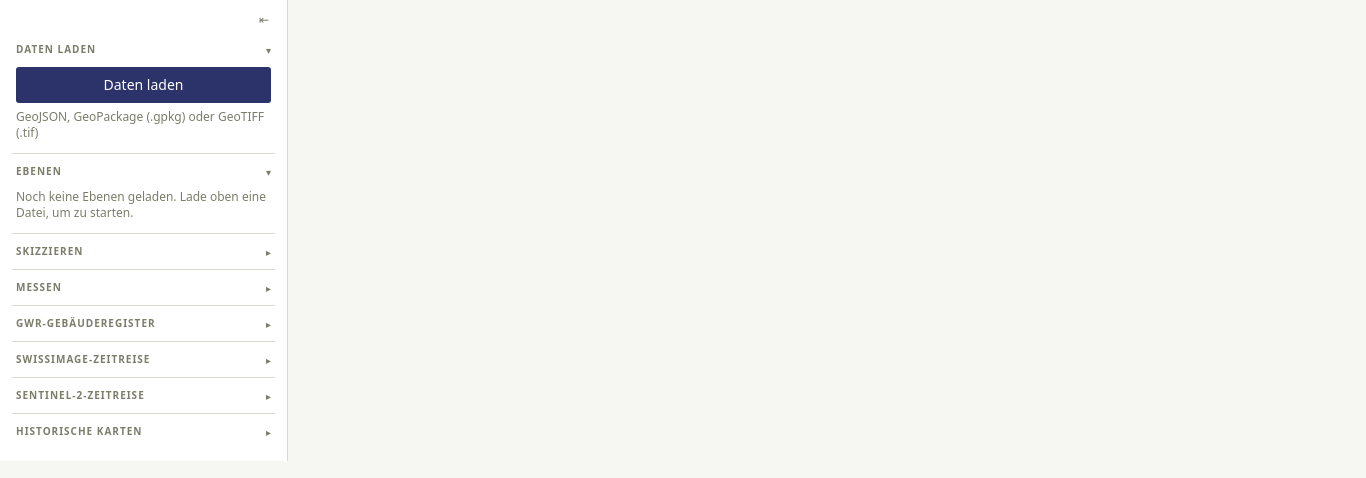
Test: SidebarPanels (rail mode) › switches to the icon rail and opens exactly one panel
Click the button named "Kompakte Seitenleiste" at (264, 20), box x1=253 y1=12 x2=275 y2=28
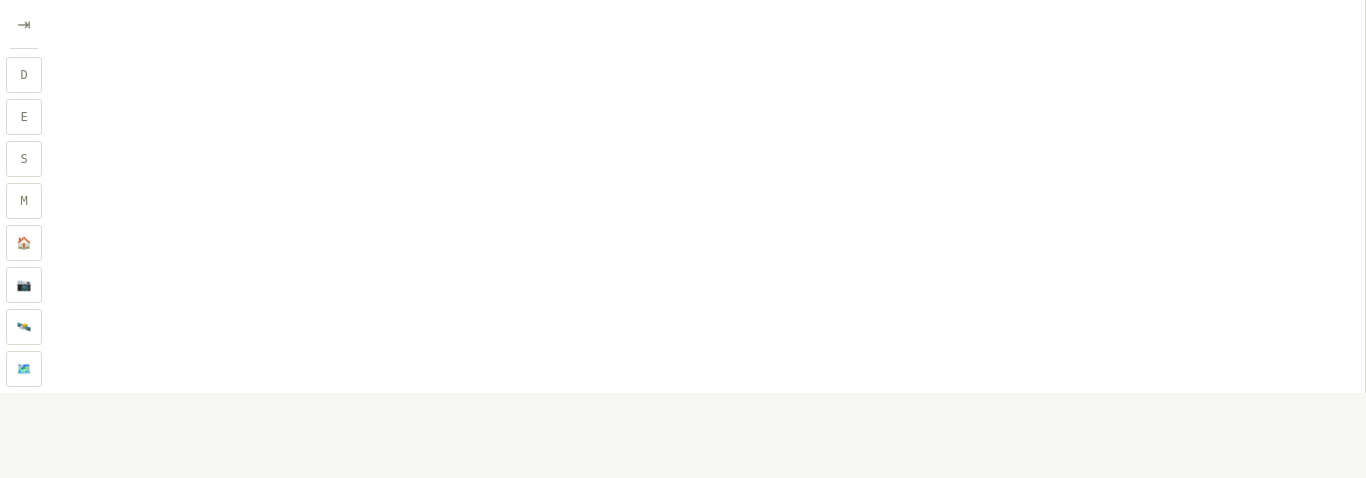
Now the text "Noch keine Ebenen geladen" is gone
Click the button named "Ebenen" at (24, 117), box x1=6 y1=99 x2=42 y2=135
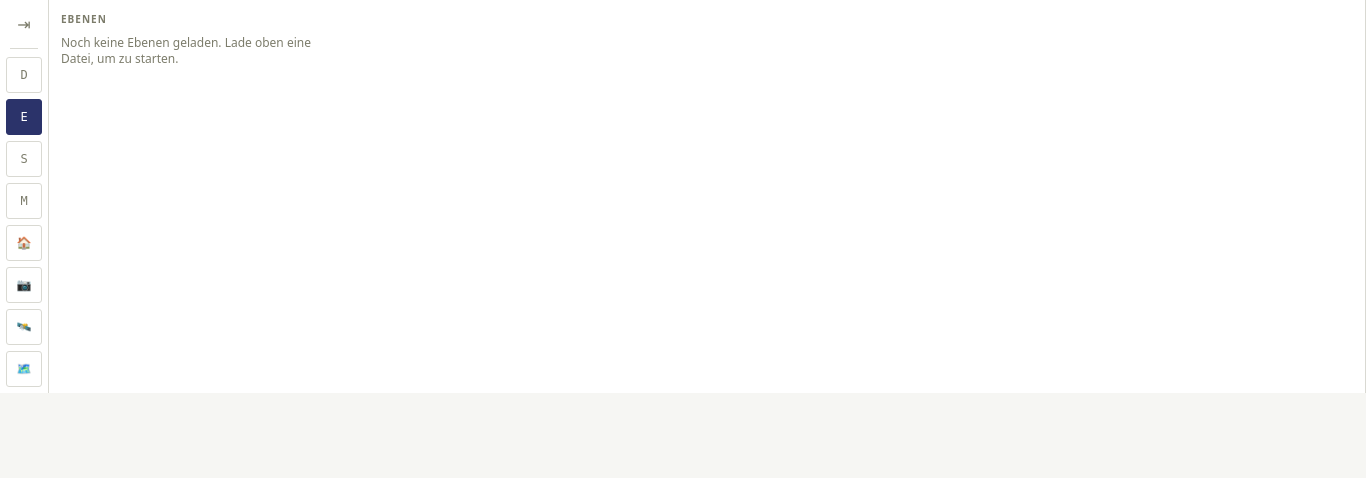
Now the text "Noch keine Ebenen geladen" is shown, box x1=61 y1=34 x2=311 y2=67
Now the heading "Ebenen" is shown, box x1=61 y1=12 x2=107 y2=26
Note: Opening another panel replaces the first (exactly one open).
Click the button named "Messen" at (24, 201), box x1=6 y1=183 x2=42 y2=219
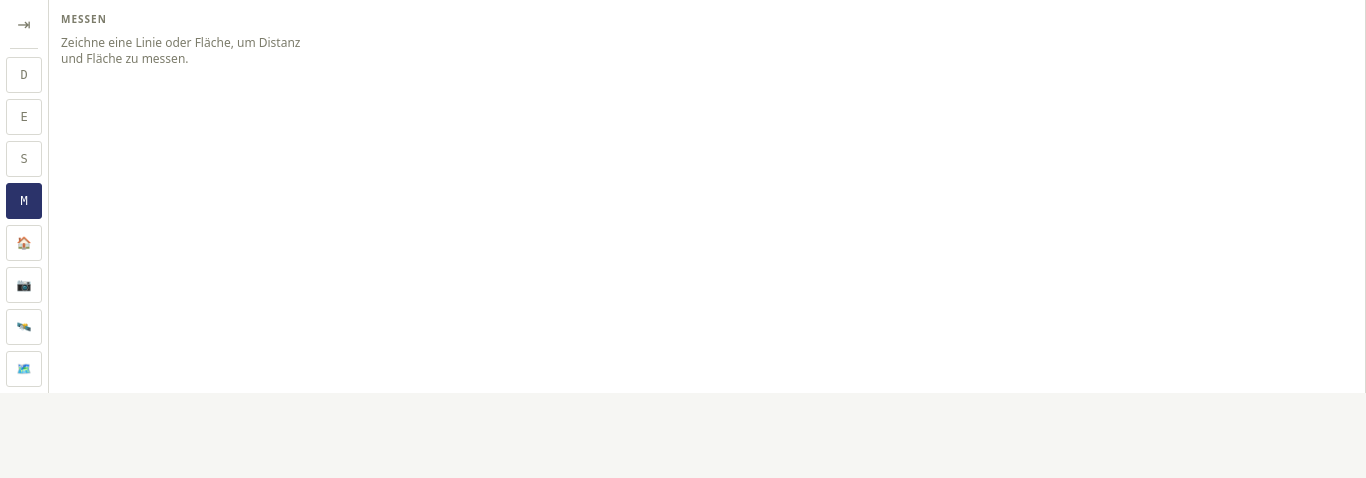
Now the text "Noch keine Ebenen geladen" is gone
Now the text "Zeichne eine Linie" is shown, box x1=61 y1=34 x2=300 y2=67
